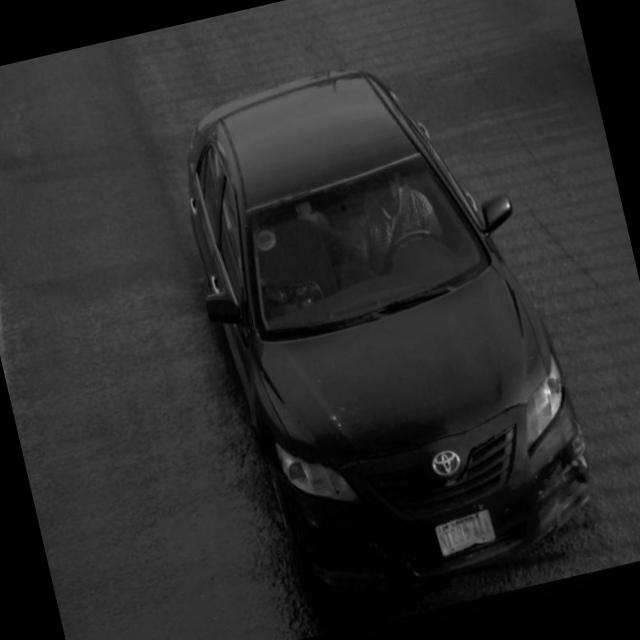person_with_seatbelt: (336, 160, 452, 293)
